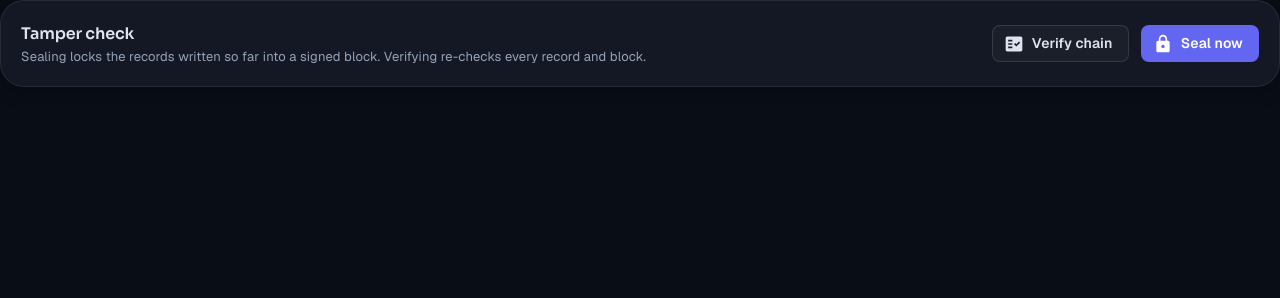
Scenario: remaining Task 3 screens › verifies the audit chain and displays the verification result
Step 1. Click the button "Verify chain" → (1060, 44), box [992,25,1129,62]
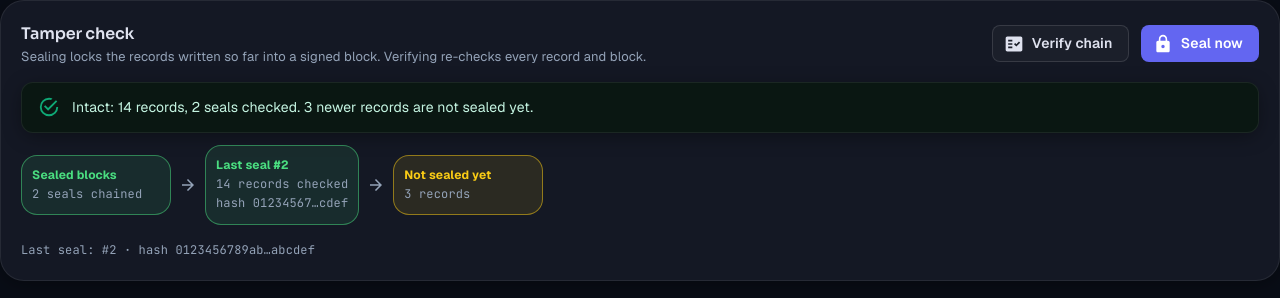
Expected: the text "Intact: 14 records, 2 seals checked" is shown, [72,98,533,116]
Expected: the text "3 newer records are not sealed yet" is shown, [300,98,533,116]
